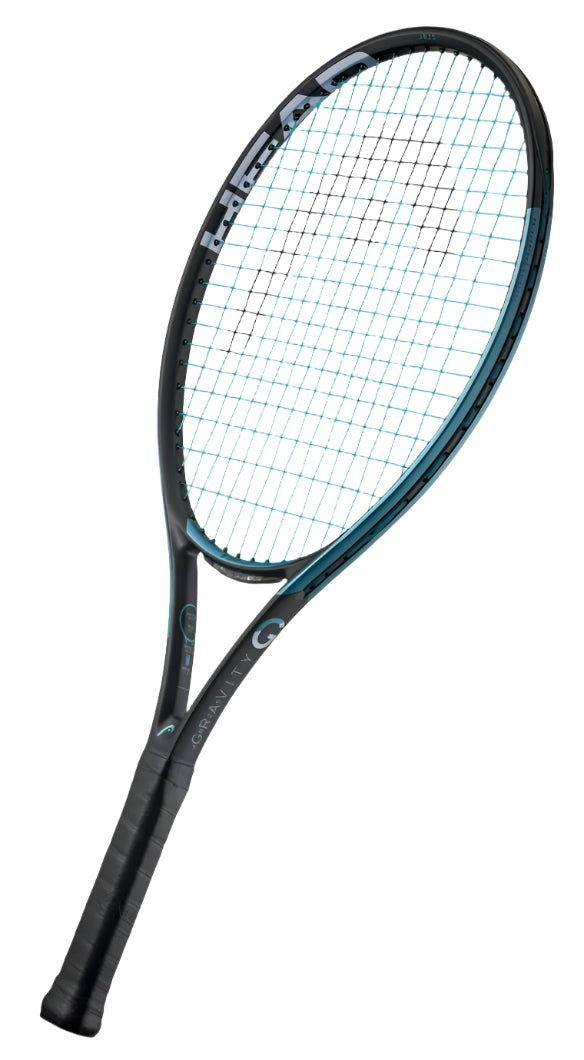Tennis-Racket: (20, 12, 563, 1060)
